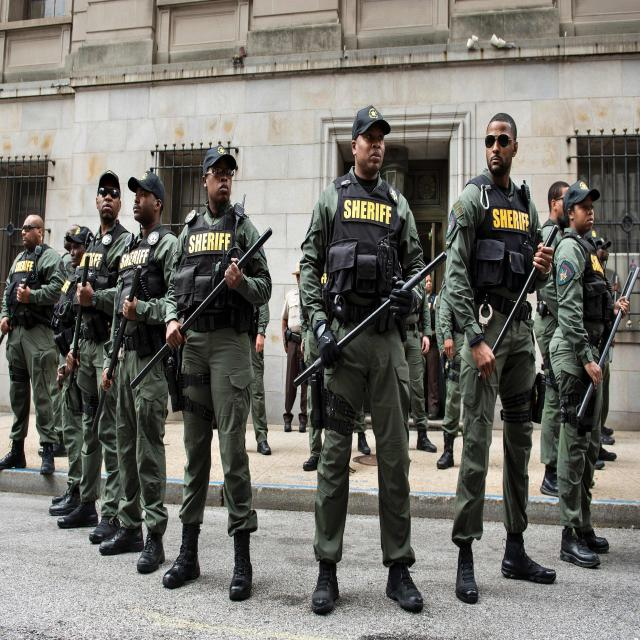police: (274, 68, 434, 607), (440, 96, 546, 607), (172, 130, 265, 611), (542, 146, 620, 564), (66, 150, 120, 561), (118, 159, 172, 569), (0, 204, 58, 504)
